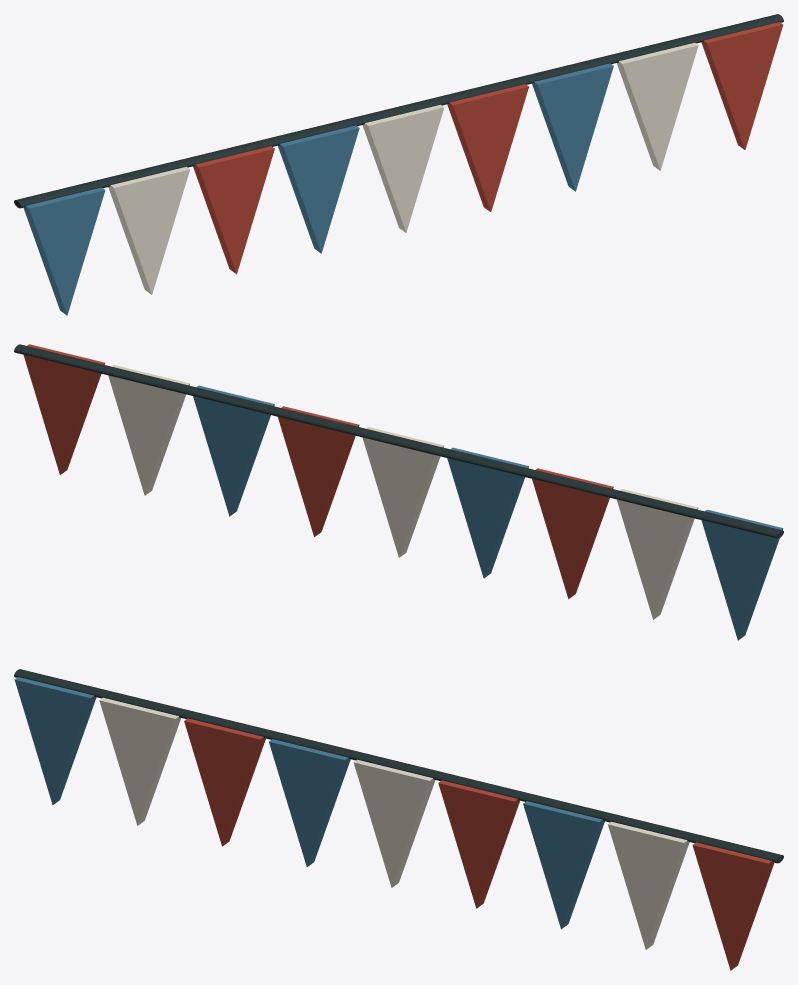
Rendered from wp-guirlande-de-fanions.glb.
The picture shows the model from 3 angles, top to bottom: view 1: azimuth 30°, elevation 25°; view 2: azimuth 150°, elevation 25°; view 3: azimuth 330°, elevation 25°; orthographic projection.
Parts seen in each view (by area): view 1: wp-guirlande-de-fanions; view 2: wp-guirlande-de-fanions; view 3: wp-guirlande-de-fanions.
Part boxes in pixels (x1,y1,x2,y2): wp-guirlande-de-fanions: (14, 14, 783, 315); wp-guirlande-de-fanions: (14, 344, 783, 640); wp-guirlande-de-fanions: (14, 669, 783, 970).
Size of the model in its own units: 2 by 0.3 by 0.05.
